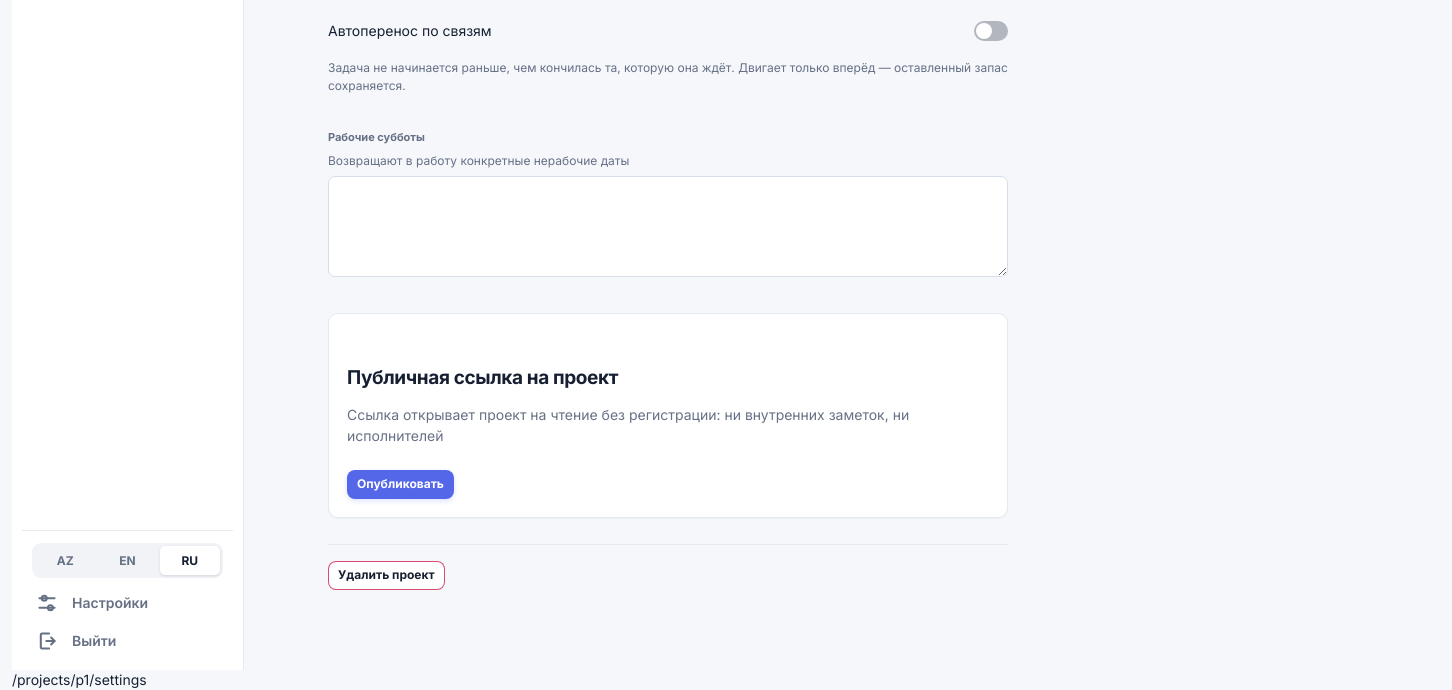
Test: удаление проекта › подтверждение можно передумать
The image size is (1452, 690).
(page scrolled)
Click the button "Удалить проект". click: (386, 575)
box: [328,561,445,590]
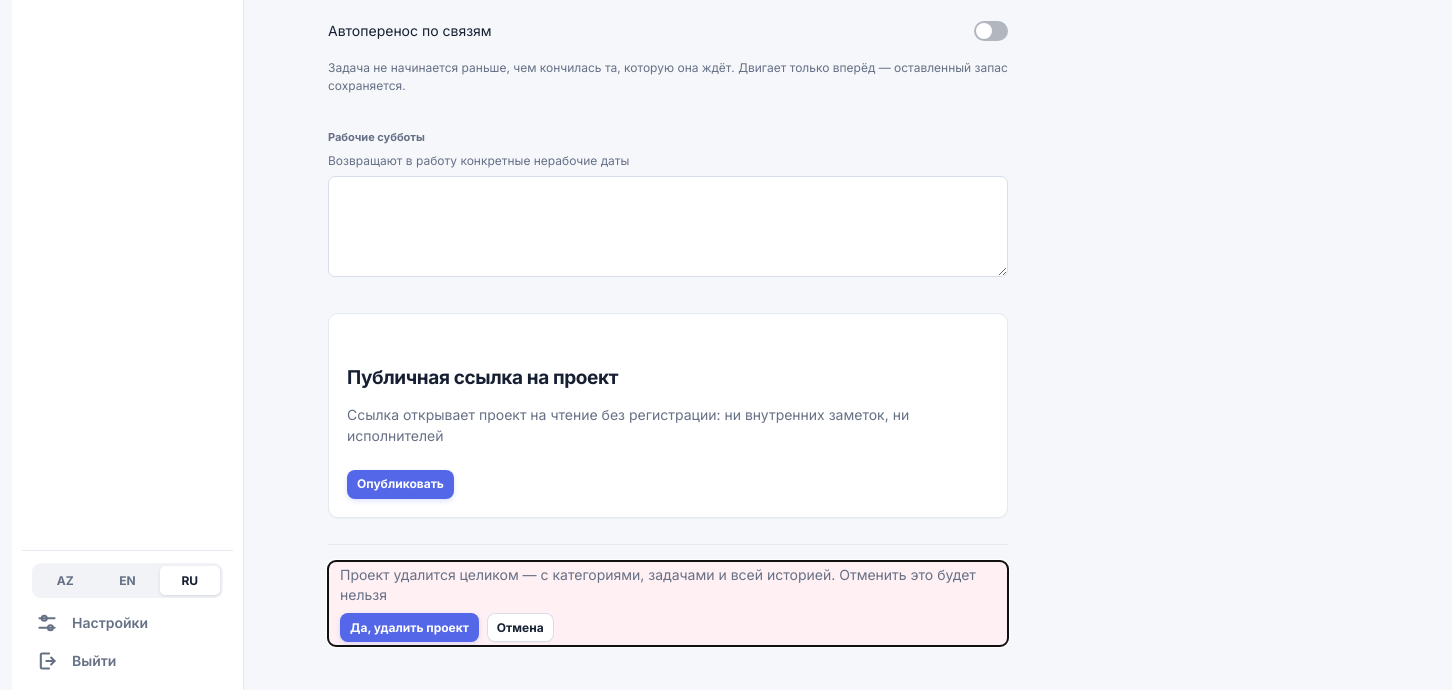
Click the button "Отмена". click: (520, 628)
box: [487,613,554,642]
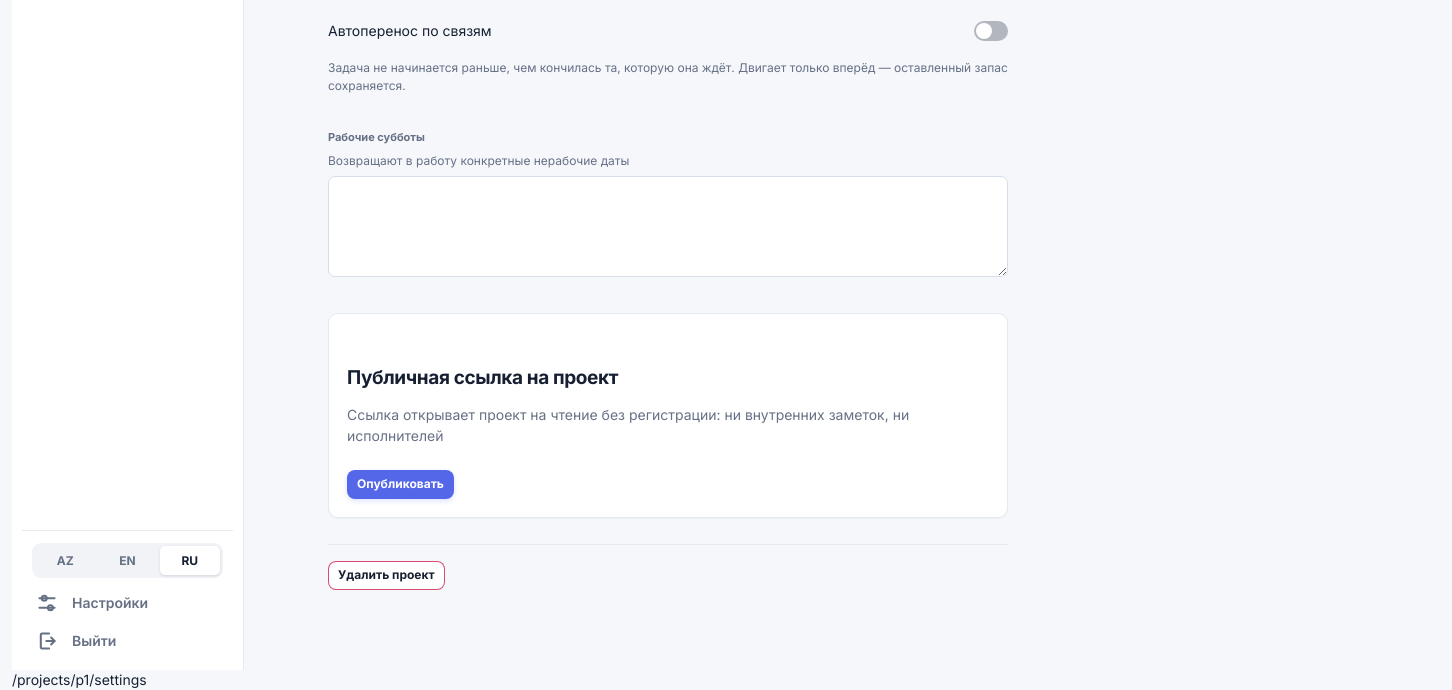
Now the button "Удалить проект" is shown, box [328,561,445,590]
Now the button "Да, удалить проект" is gone
